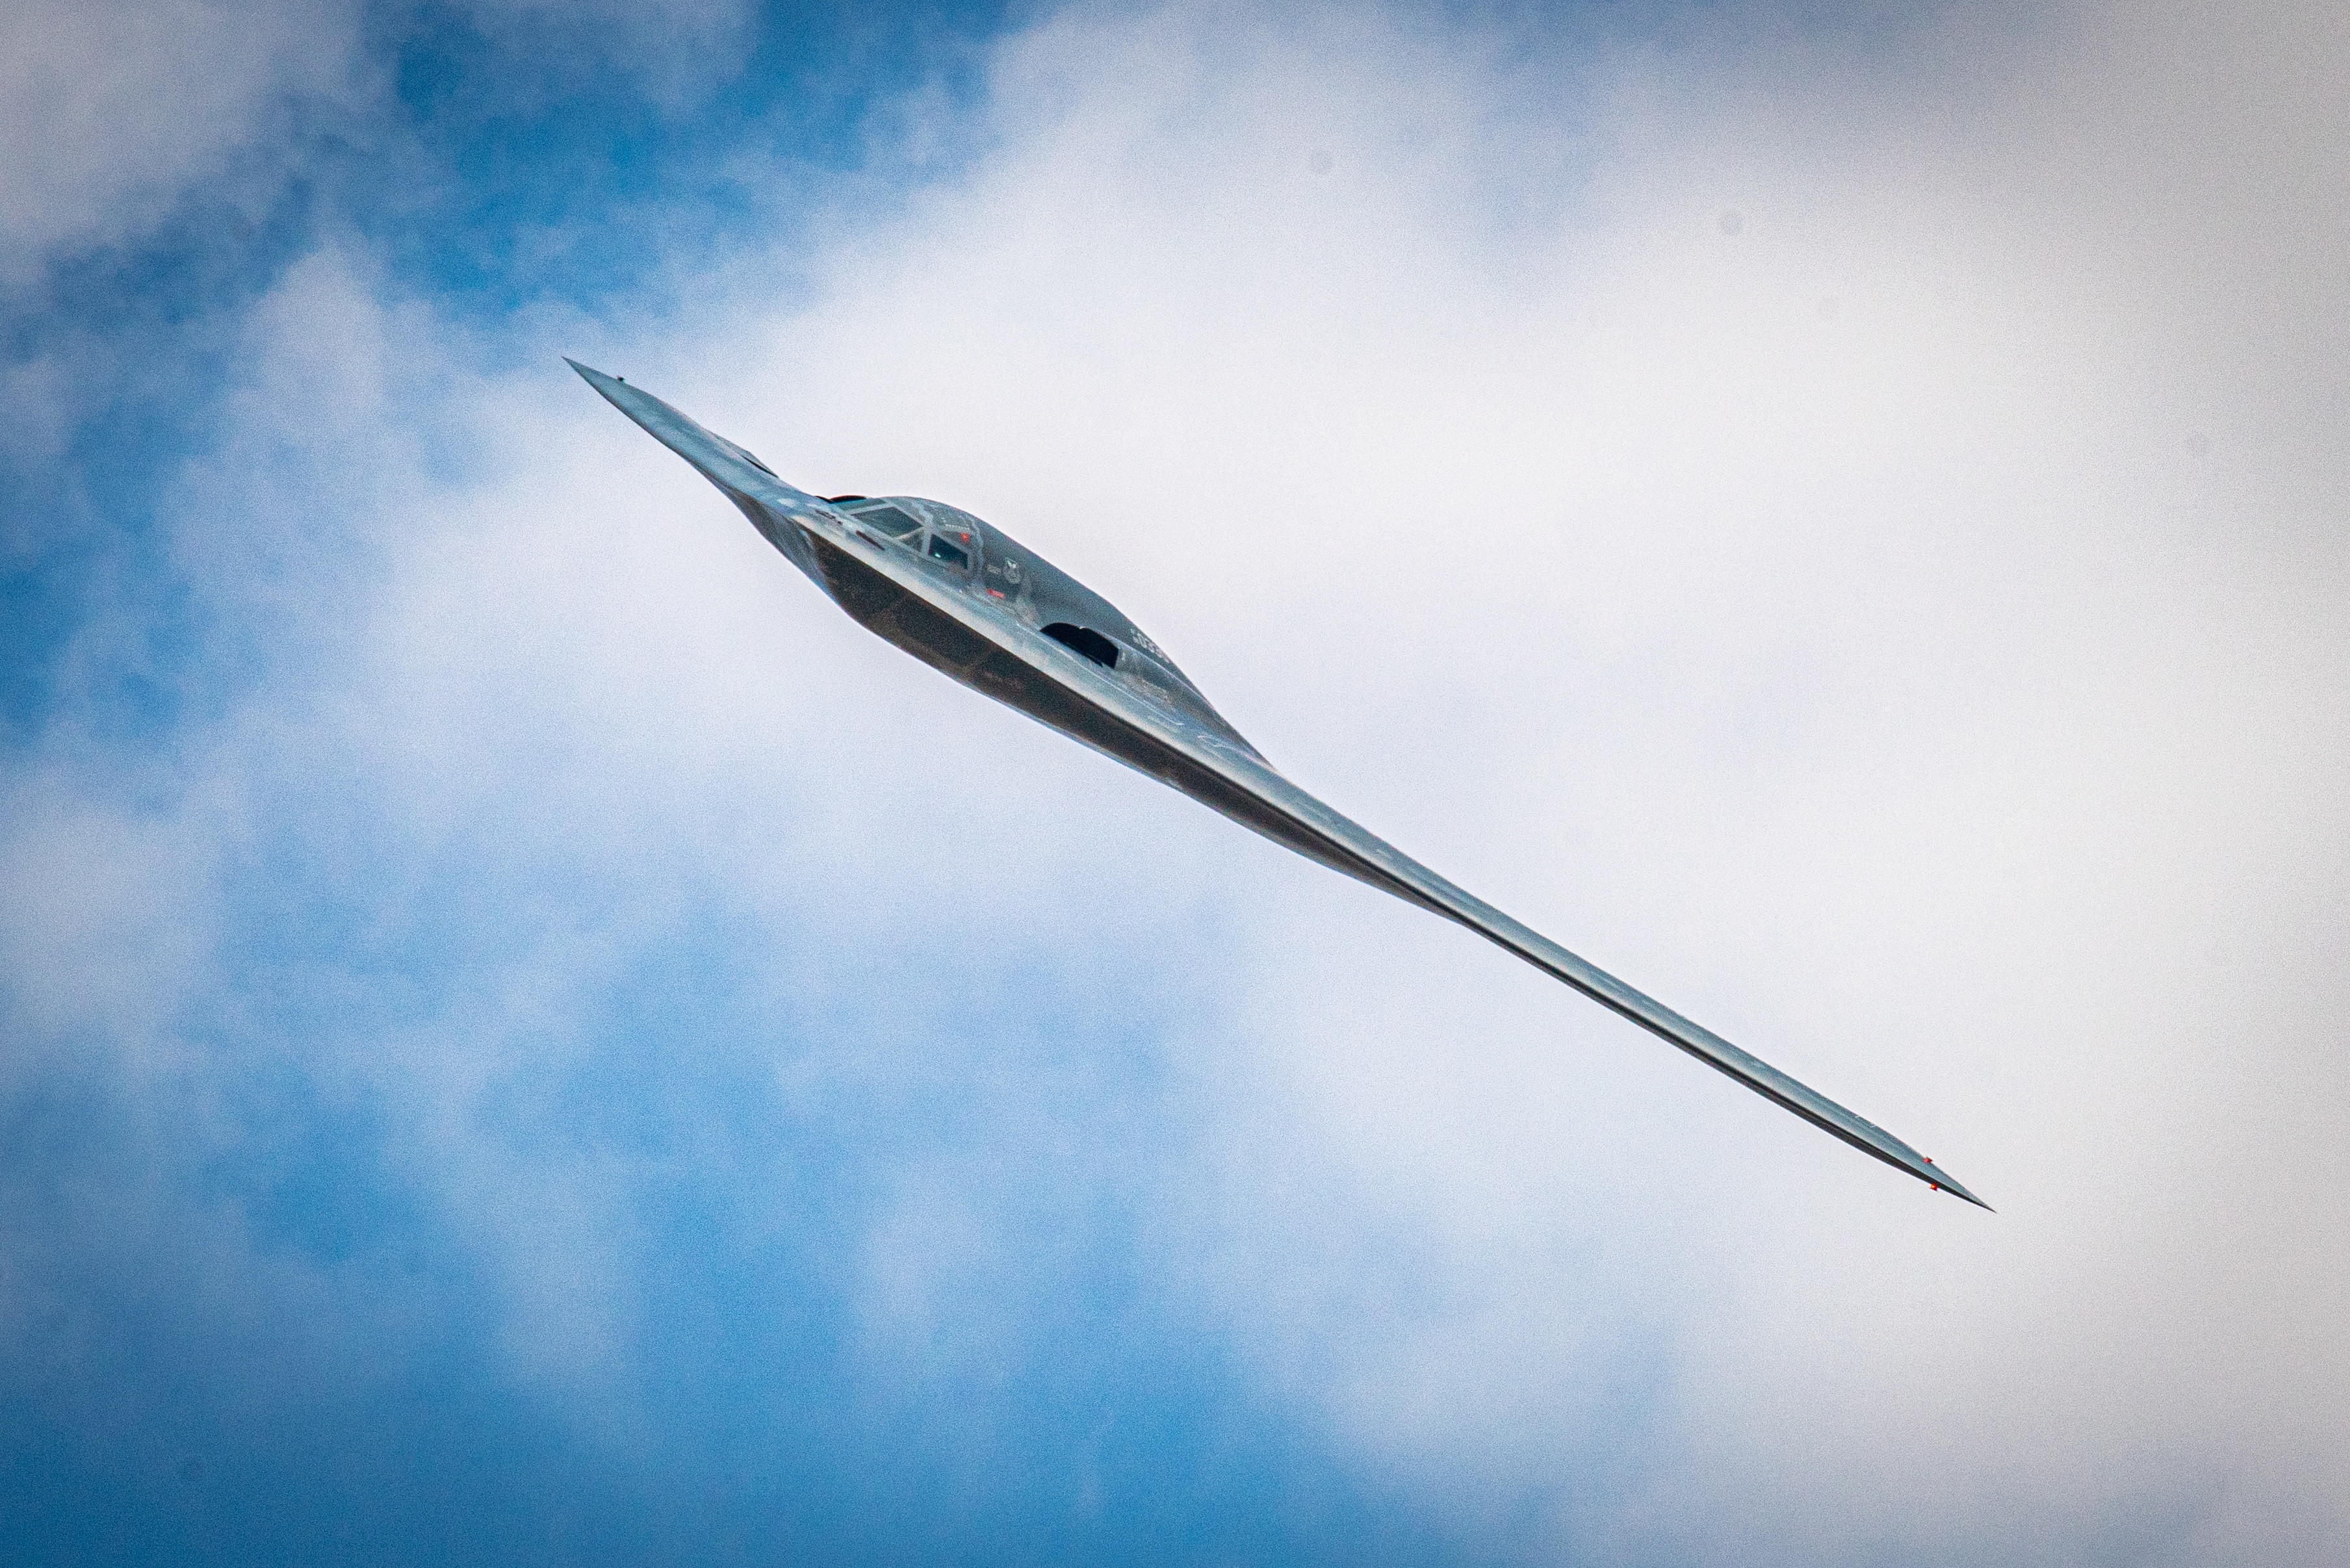B2: (560, 355, 1998, 1214)
